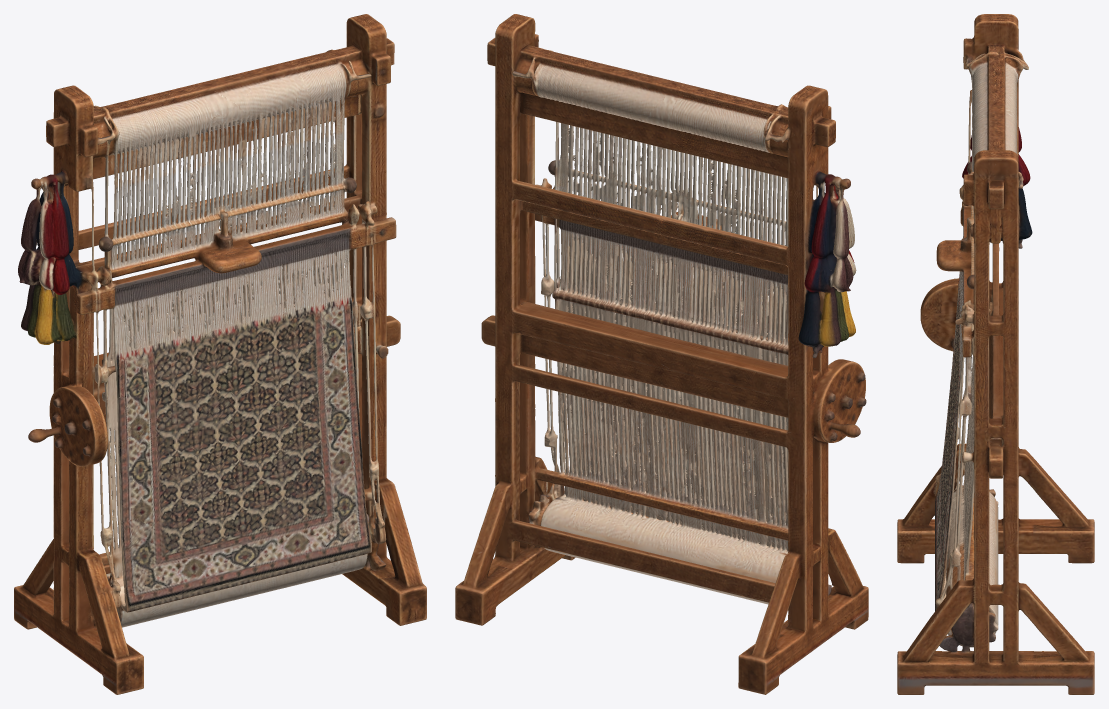
The model's file is Tebriz.glb.
The picture shows the model from 3 angles, left to right: view 1: azimuth 30°, elevation 25°; view 2: azimuth 150°, elevation 25°; view 3: azimuth 270°, elevation 25°; orthographic projection. The views are drawn at different scales.
Size of the model in its own units: 1.31 by 1.9 by 0.6319.
Materials: 1 (1 with a texture image).
